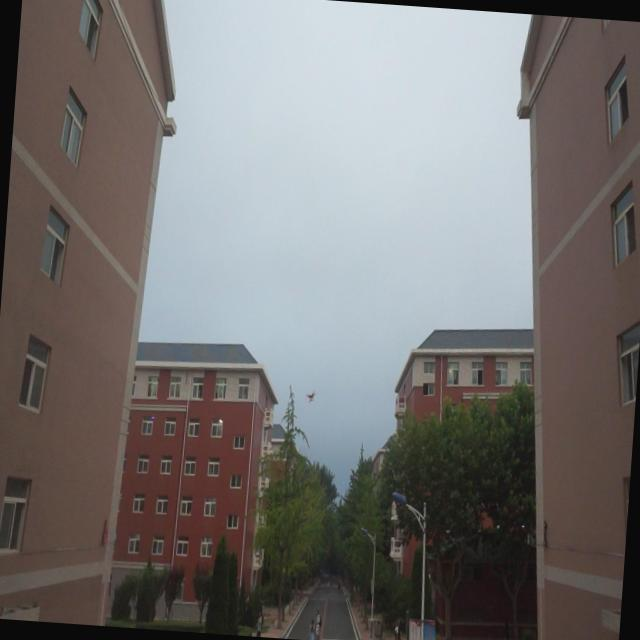drone: (304, 388, 316, 403)
